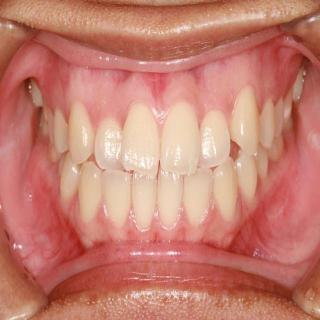Gum Swelling: (96, 196, 219, 241), (112, 89, 207, 139)
maligned: (117, 103, 159, 168), (200, 106, 235, 172), (228, 86, 260, 158), (213, 160, 241, 220), (102, 168, 131, 224), (96, 115, 124, 167), (23, 81, 51, 117)
